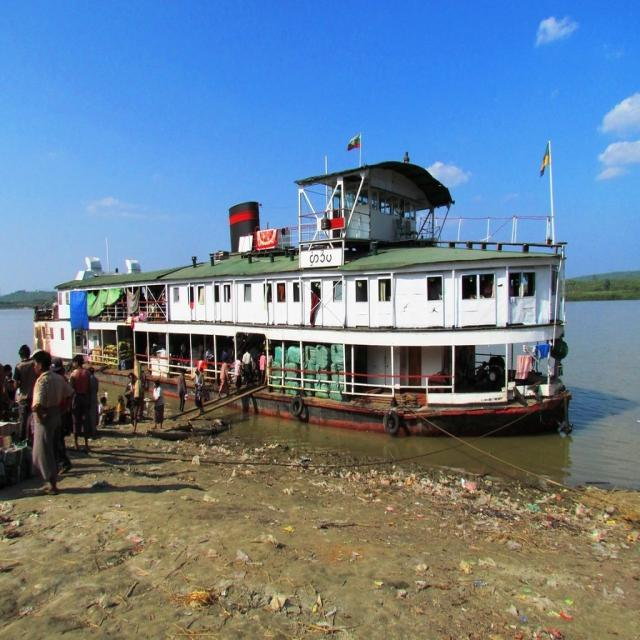boat: (29, 146, 571, 435)
